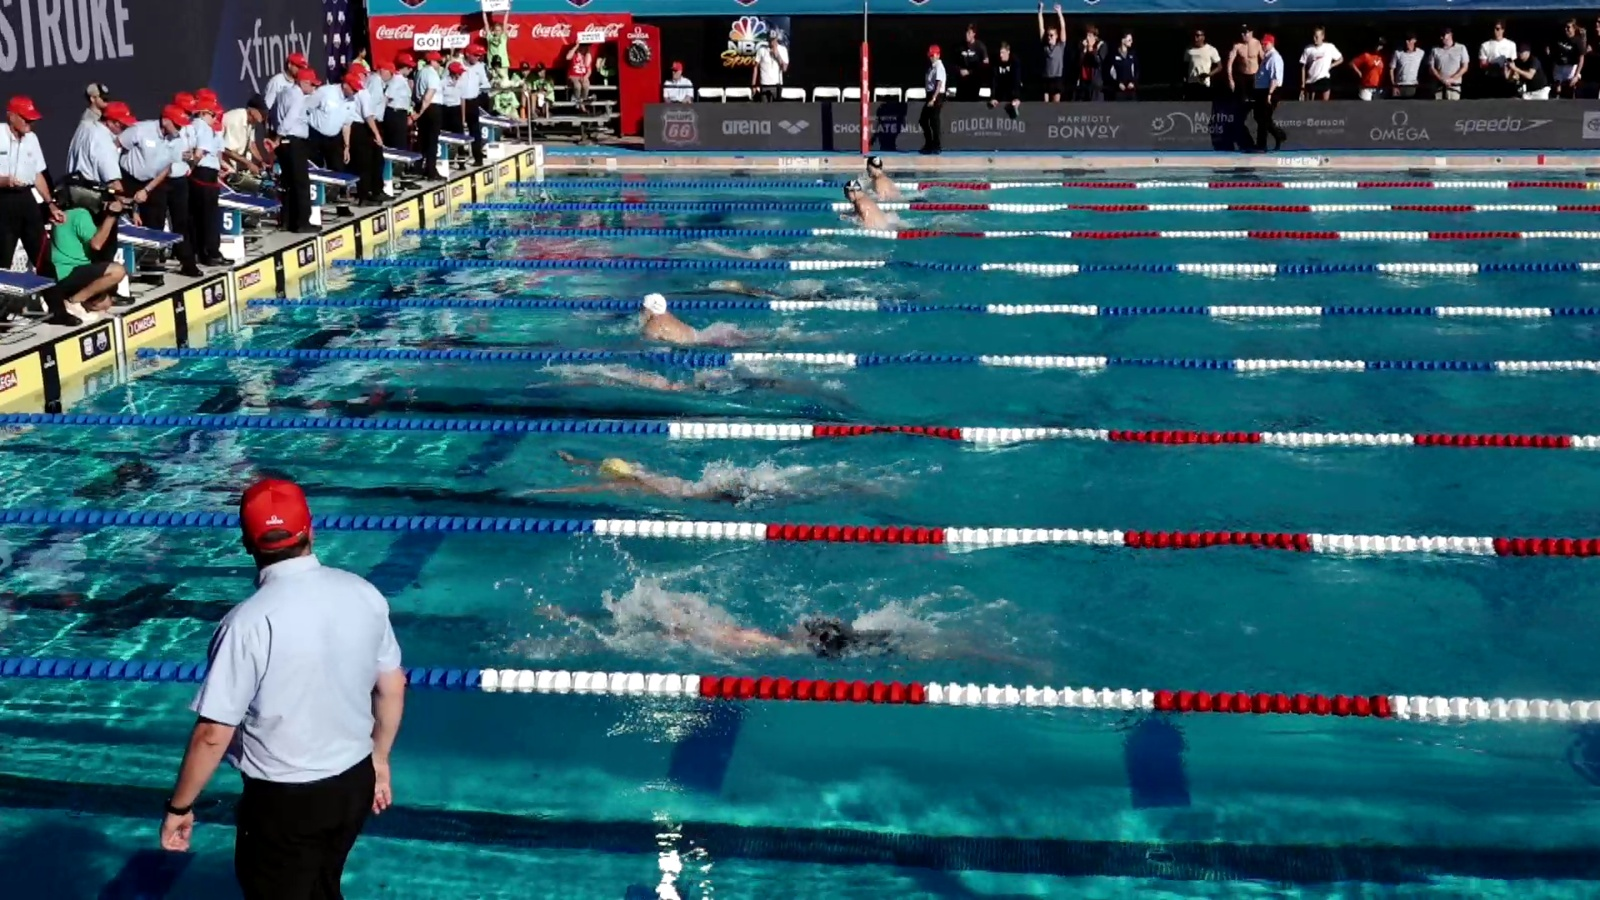swimmerw: (557, 443, 777, 527), (638, 601, 914, 668), (567, 357, 810, 404), (633, 289, 789, 357), (703, 273, 857, 304), (867, 151, 938, 203), (841, 179, 898, 240), (711, 241, 819, 268)
